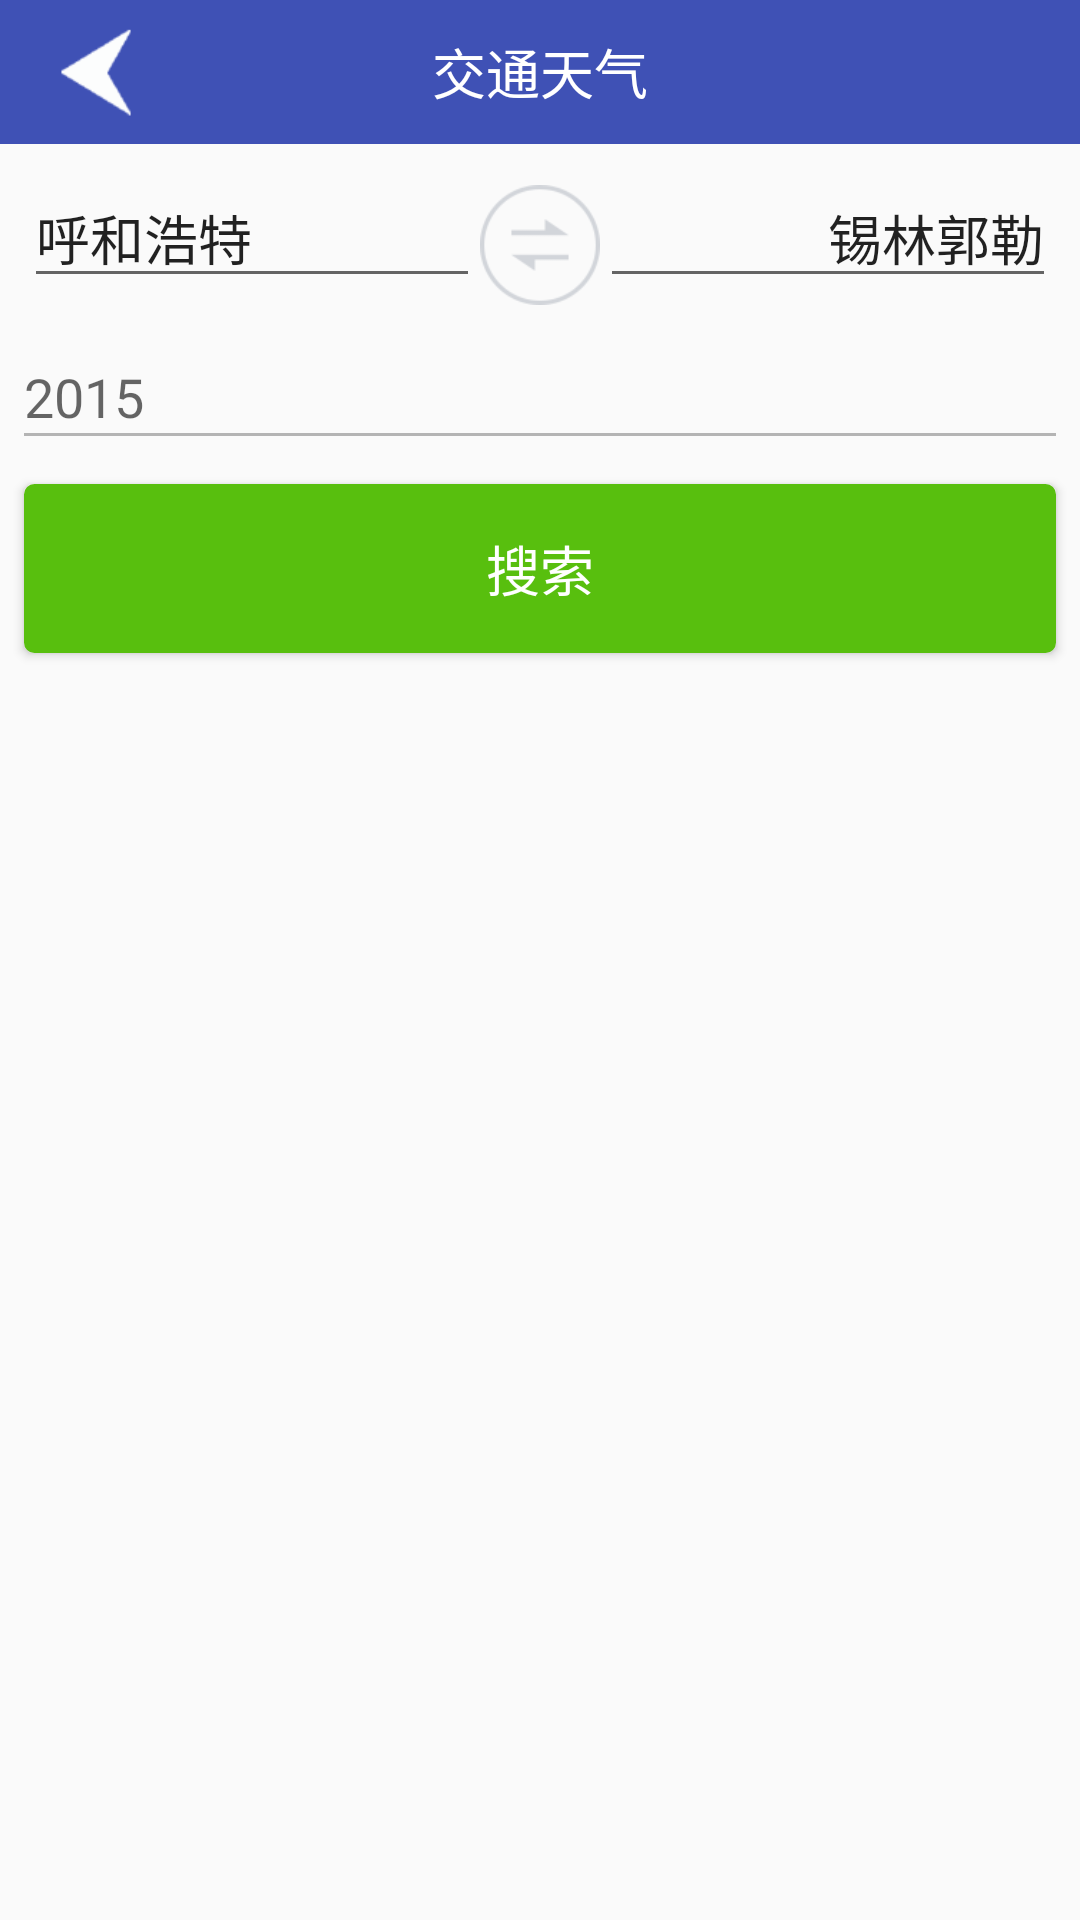

Where to tap for icons on this 1080×1920 app screen, as point (x, y):
back: point (96, 72)
left right: point (540, 245)
